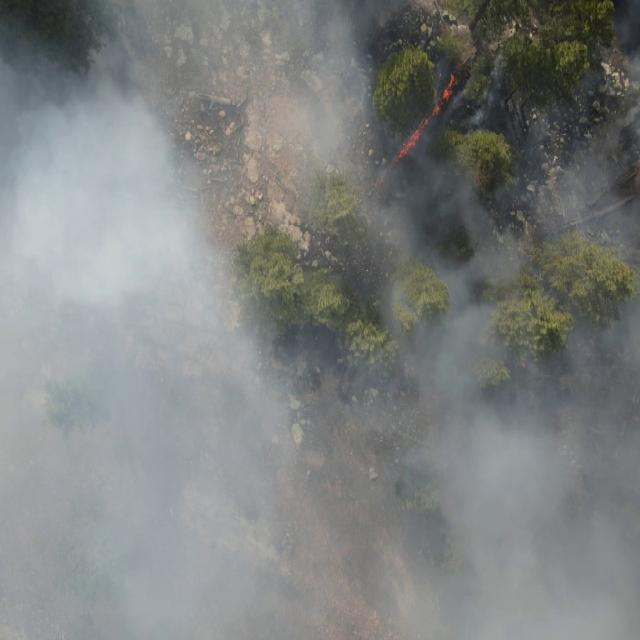fire: (393, 70, 463, 165), (368, 171, 386, 193), (520, 357, 528, 372)
smoke: (0, 0, 640, 640)
